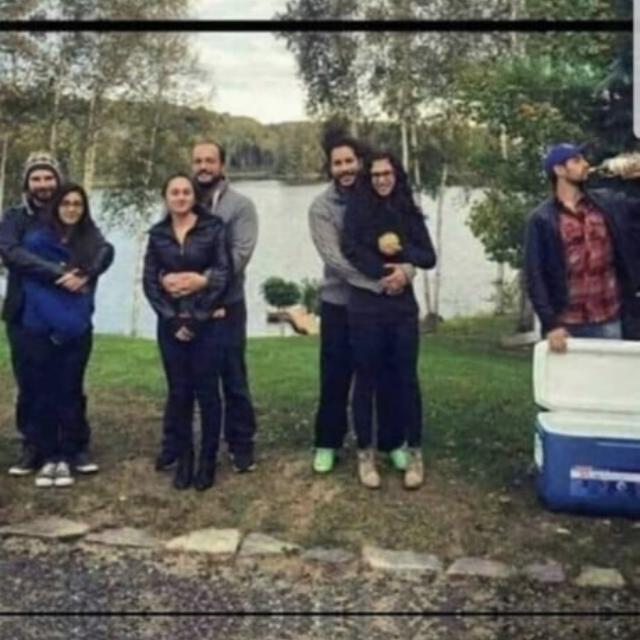person: (358, 147, 444, 476), (532, 133, 628, 359), (146, 178, 236, 336), (310, 141, 368, 347), (42, 182, 108, 320), (10, 150, 60, 278), (185, 140, 247, 232)
